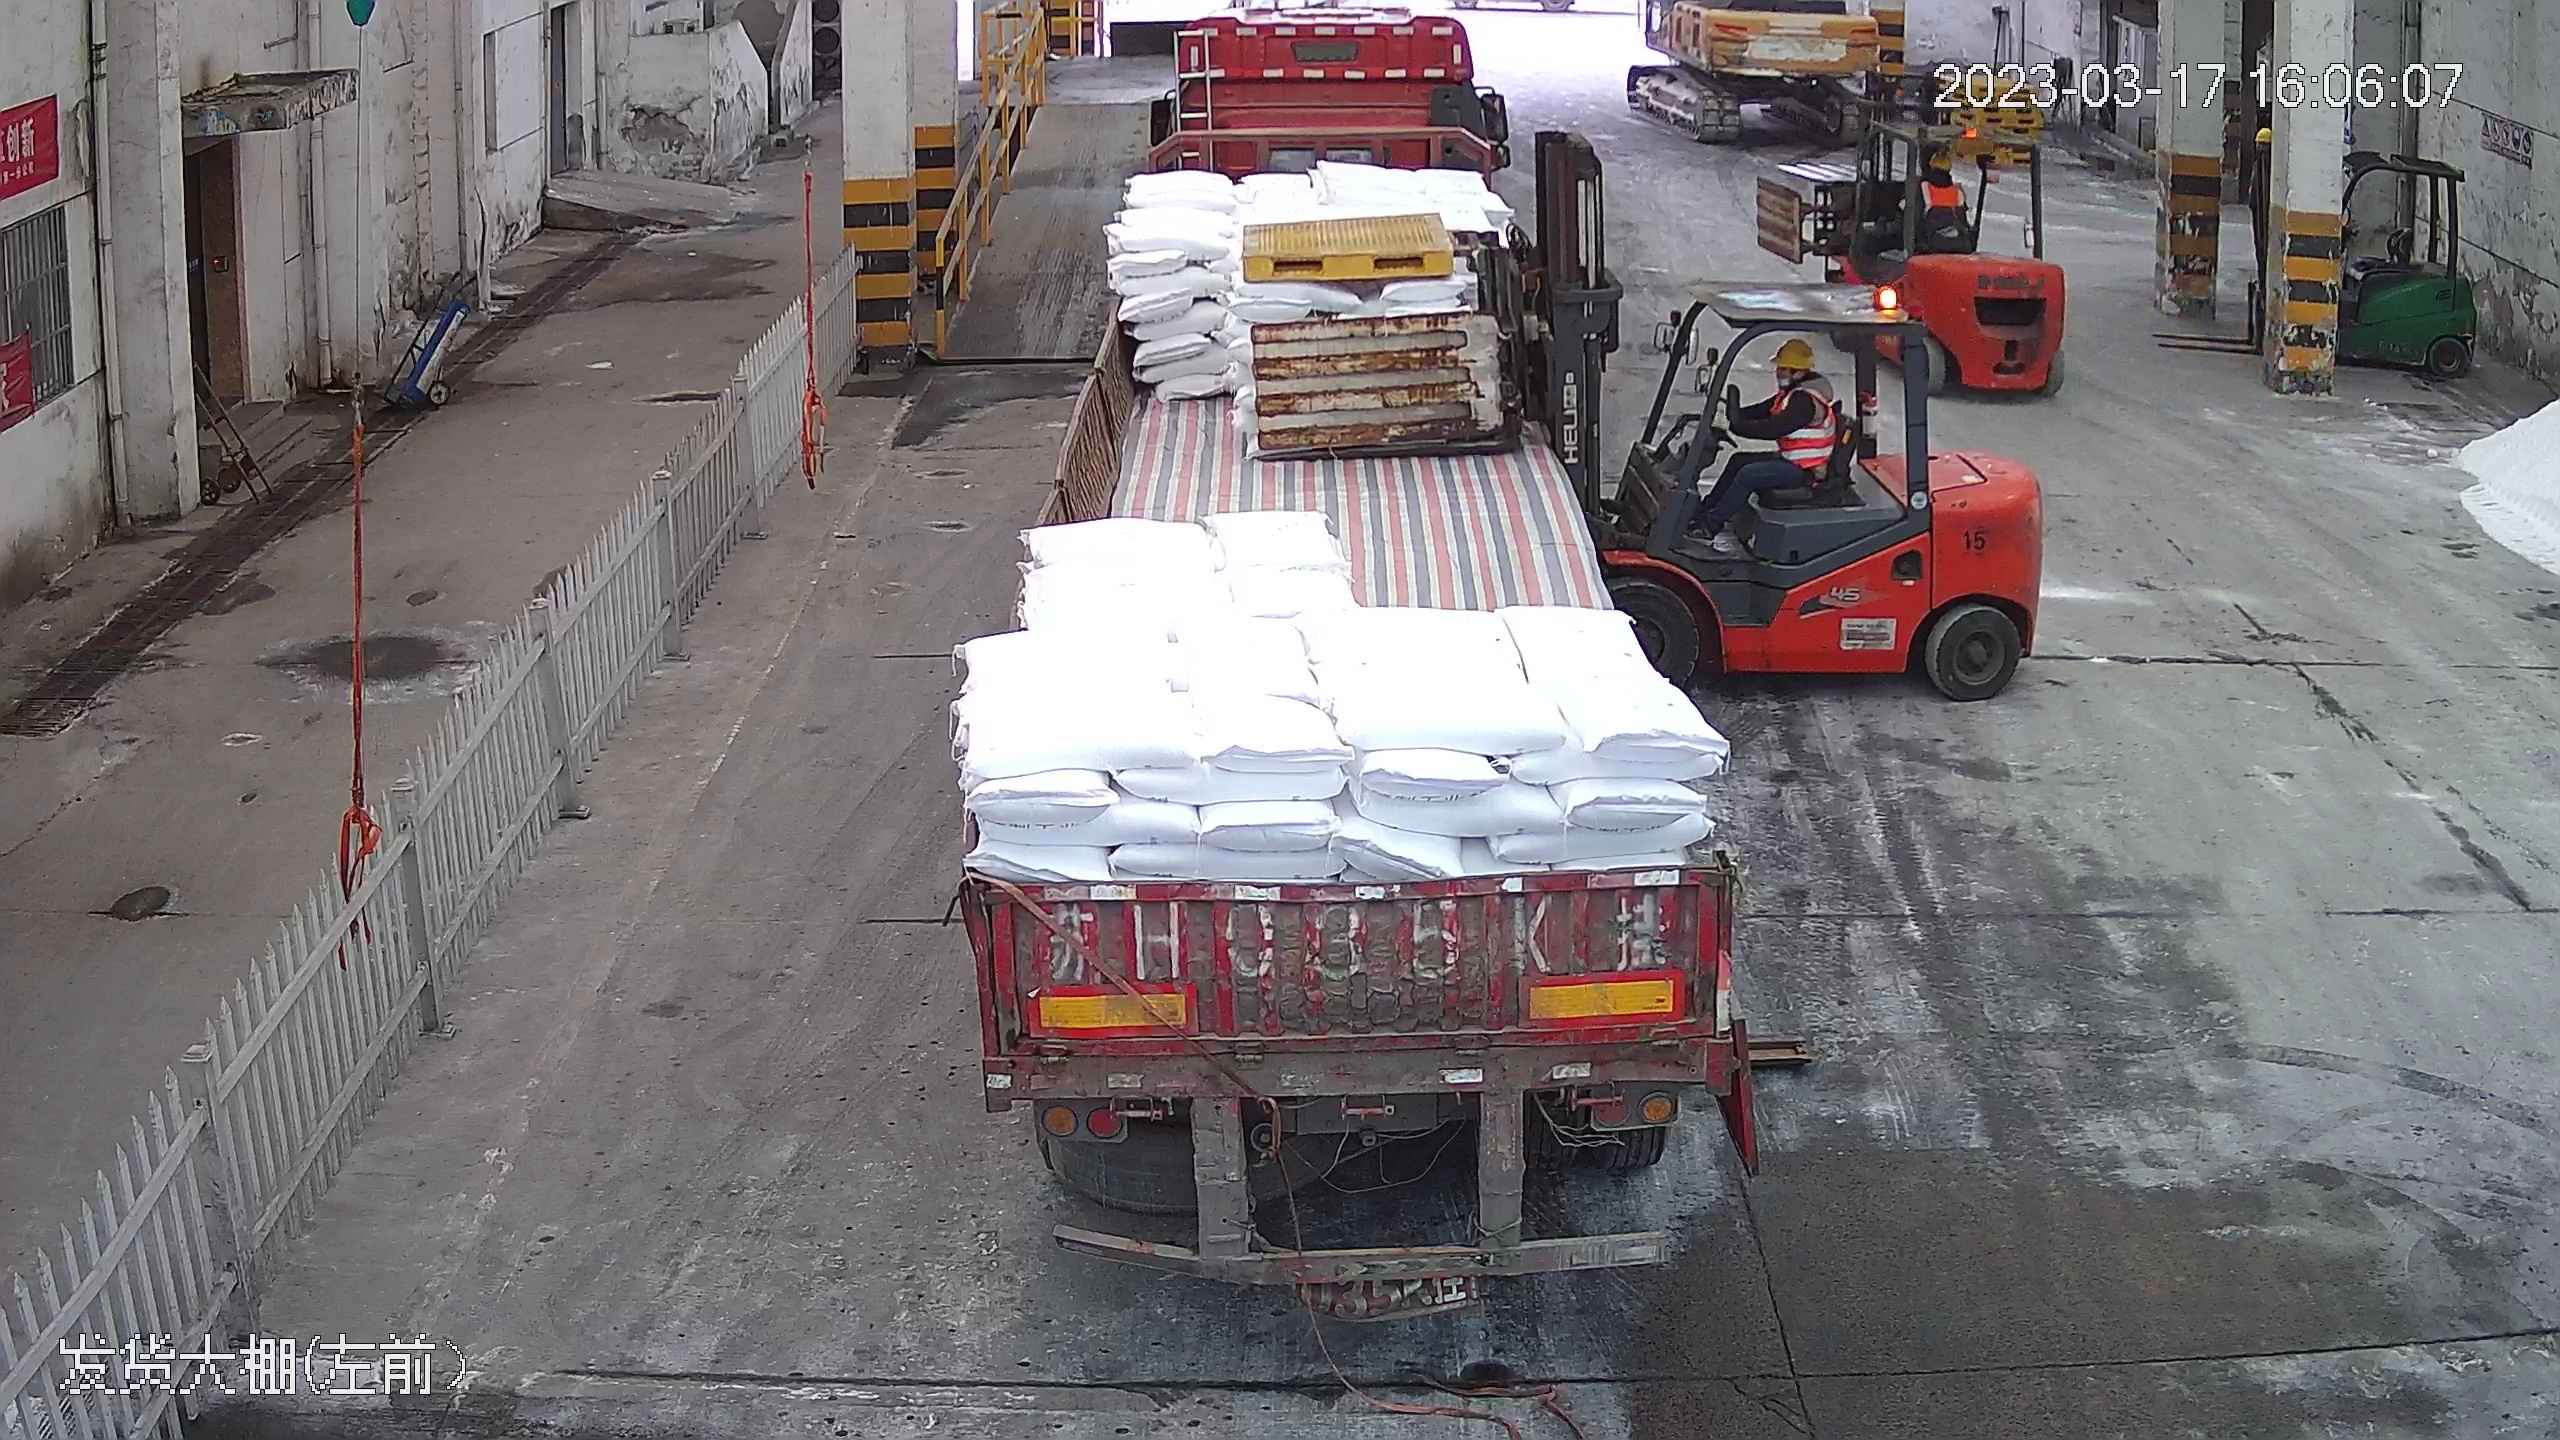head: (1755, 336, 1830, 421), (1913, 151, 1966, 204)
helmet: (1770, 336, 1818, 371), (1929, 146, 1958, 168)
people: (1697, 335, 1834, 544)
truck: (954, 7, 1741, 1245)
